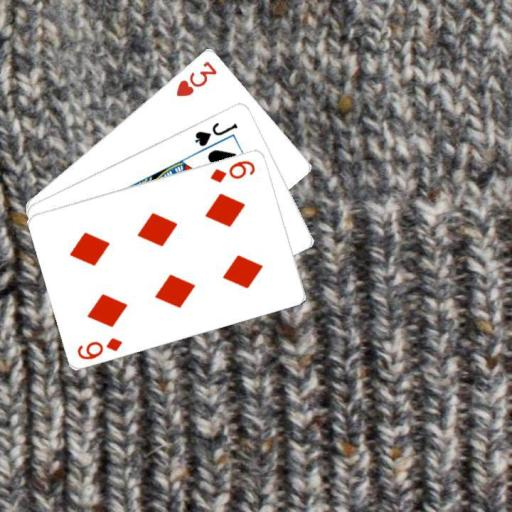3H: (173, 58, 219, 98)
6D: (207, 157, 257, 184), (74, 334, 124, 361)
JS: (191, 119, 240, 148)
